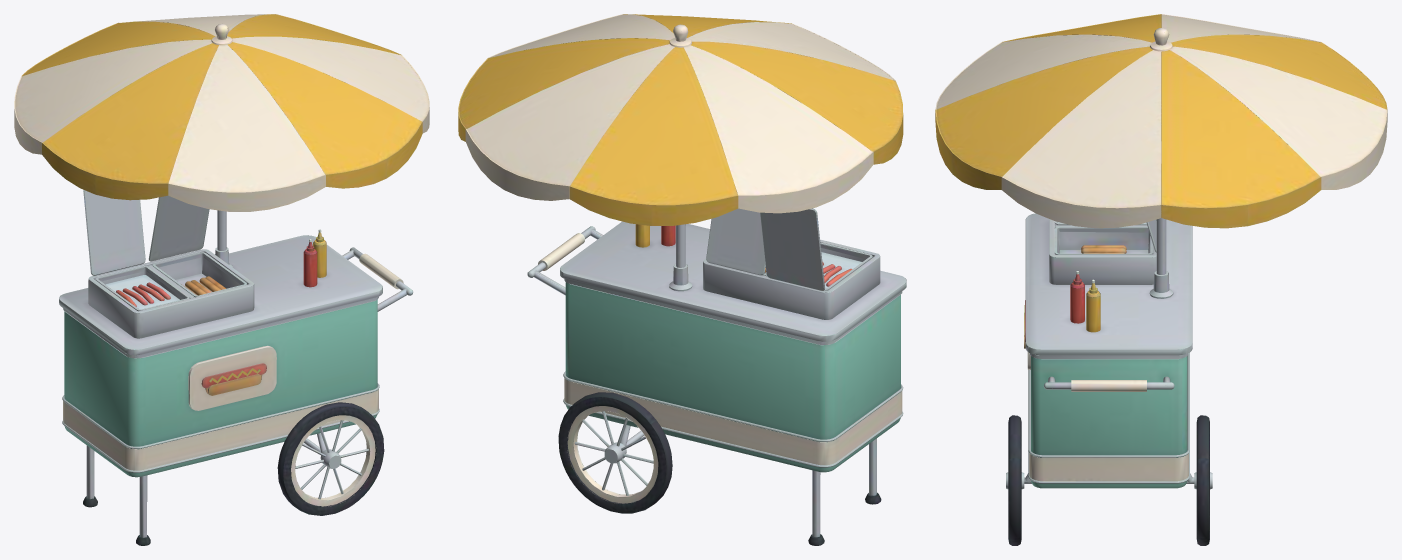
The model's file is hot-dog-cart-light.glb.
3 views of the same model, side by side, from view 1: azimuth 30°, elevation 25°; view 2: azimuth 150°, elevation 25°; view 3: azimuth 270°, elevation 25° (orthographic). The views are drawn at different scales.
Parts seen in each view (by area): view 1: hot-dog-cart_body, hot-dog-cart_umbrella; view 2: hot-dog-cart_body, hot-dog-cart_umbrella; view 3: hot-dog-cart_umbrella, hot-dog-cart_body.
Boxes of the visible parts, bbox=[...] form: hot-dog-cart_body: bbox=[59, 190, 413, 545]; hot-dog-cart_umbrella: bbox=[14, 14, 429, 251]; hot-dog-cart_body: bbox=[527, 208, 906, 545]; hot-dog-cart_umbrella: bbox=[458, 14, 903, 268]; hot-dog-cart_umbrella: bbox=[935, 14, 1387, 275]; hot-dog-cart_body: bbox=[1006, 213, 1212, 545].
Size of the model in its own units: 1.73 by 2.06 by 1.73.
Materials: 2 (2 with a texture image).
